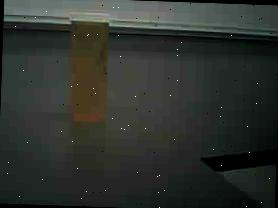Bottle A: (61, 4, 122, 132)
